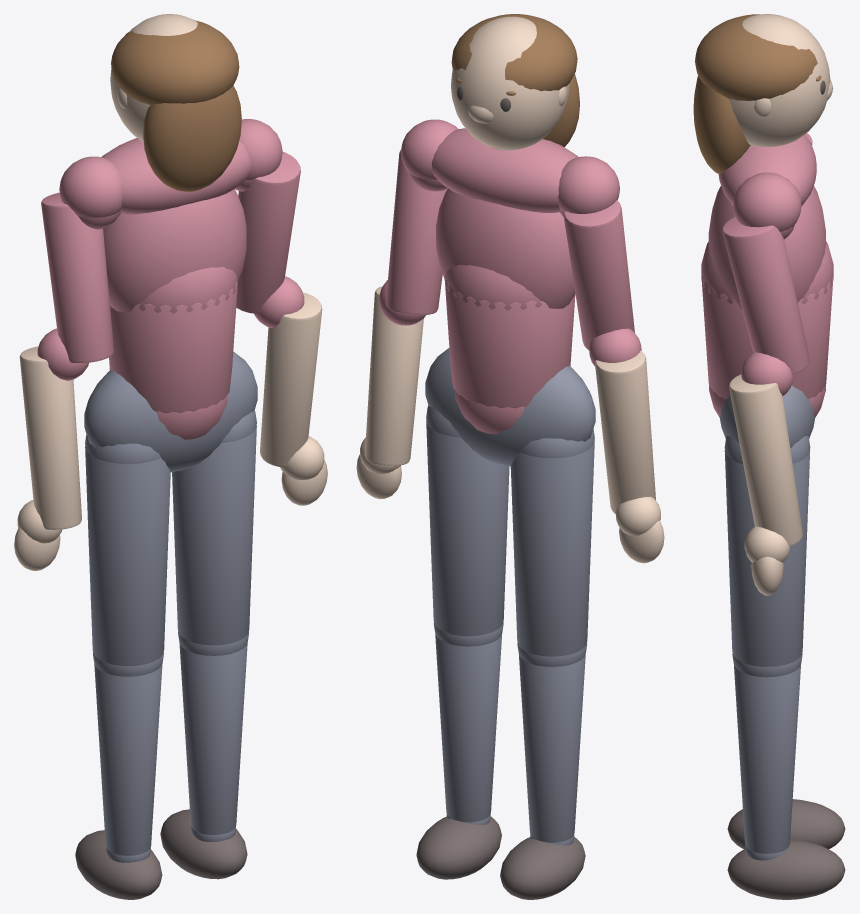
The model's file is th30_mensch_frau.glb.
3 renders of one model, left to right at view 1: azimuth 30°, elevation 25°; view 2: azimuth 150°, elevation 25°; view 3: azimuth 270°, elevation 25°, orthographic.
Parts seen in each view (by area): view 1: Cone.006, Cone.008, Cone, Sphere, Cone.009, Cone.007, Cone.002, Sphere.011, Cone.003, Sphere.001, Sphere.012, Cone.005 (+18 smaller); view 2: Cone.006, Cone.008, Cone, Sphere, Cone.007, Cone.009, Sphere.007, Sphere.004, Sphere.001, Cone.005, Cone.002, Cone.003 (+16 smaller); view 3: Cone.008, Cone.009, Cone.004, Cone.005, Sphere.011, Cone, Sphere.007, Sphere.038, Sphere, Sphere.004, Sphere.012, Sphere.023 (+9 smaller).
Boxes of the visible parts, x1,y1,x2,y2 form: Cone.006: (85,446,170,666); Cone.008: (172,425,256,645); Cone: (109,282,237,413); Sphere: (103,189,246,311); Cone.009: (179,642,247,834); Cone.007: (94,663,162,855); Cone.002: (41,192,113,363); Sphere.011: (111,20,239,104); Cone.003: (19,346,81,529); Sphere.001: (84,351,257,472); Sphere.012: (143,86,241,191); Cone.005: (260,292,322,467); Cone.006: (510,441,594,656); Cone.008: (426,420,509,636); Cone: (444,277,575,408); Sphere: (436,188,575,308); Cone.007: (518,653,585,842); Cone.009: (435,633,502,822); Sphere.007: (451,16,569,150); Sphere.004: (431,128,578,213); Sphere.001: (425,348,595,466); Cone.005: (364,286,423,466); Cone.002: (563,200,634,350); Cone.003: (595,351,655,514); Cone.008: (724,450,810,666); Cone.009: (733,663,800,853); Cone.004: (722,216,809,374); Cone.005: (729,374,802,546); Sphere.011: (695,14,817,100); Cone: (701,276,833,398); Sphere.007: (728,14,830,146); Sphere.038: (727,840,845,899); Sphere: (708,186,825,309); Sphere.004: (718,134,816,205); Sphere.012: (693,75,750,174); Sphere.023: (733,172,801,231).
Size of the model in its own units: 0.6324 by 1.69 by 0.2716.
